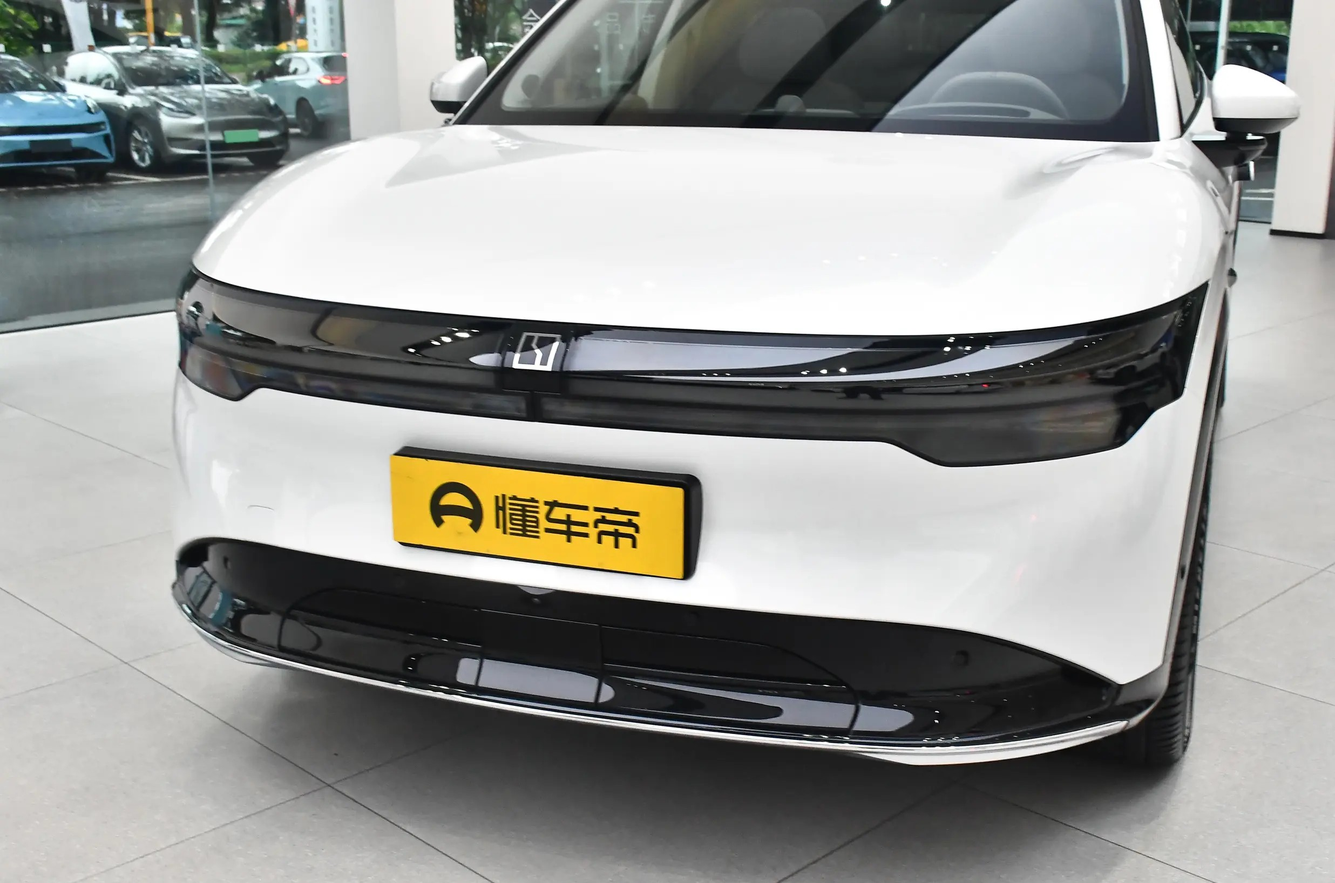ZEEKR: (513, 332, 561, 371)
